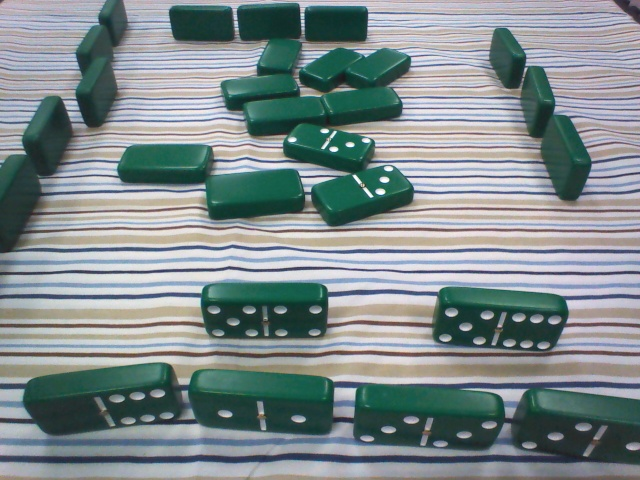A: (203, 166, 309, 217), (119, 136, 212, 186), (320, 83, 408, 125), (218, 68, 306, 107), (349, 41, 416, 90), (241, 92, 324, 126), (302, 39, 362, 86), (255, 33, 303, 75)
B: (310, 164, 416, 226), (281, 115, 382, 173)
C: (1, 152, 42, 253), (28, 93, 75, 165), (71, 58, 121, 122), (72, 20, 117, 71), (94, 1, 132, 45)
D: (536, 114, 597, 211), (482, 27, 532, 90), (514, 67, 559, 135)
E: (341, 378, 509, 460), (186, 364, 341, 440), (421, 282, 570, 356), (26, 361, 177, 432), (198, 276, 337, 351), (514, 386, 640, 461)
F: (161, 3, 242, 45), (236, 1, 303, 40), (305, 6, 371, 44)
